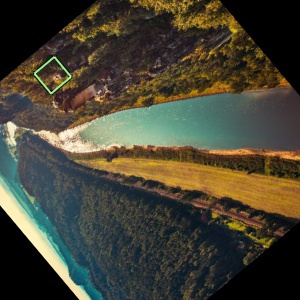square: (31, 54, 74, 96)
